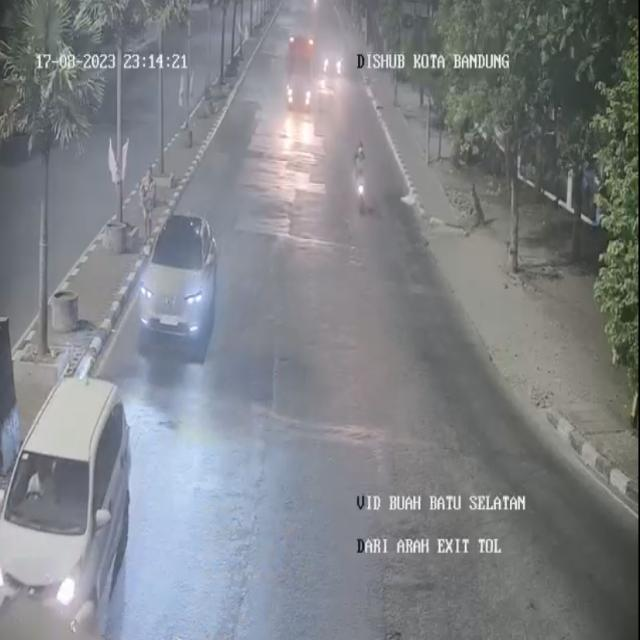cars: (0, 376, 136, 640), (140, 208, 219, 356), (0, 593, 113, 640)
motorcycle: (349, 142, 372, 222)
truck: (279, 34, 318, 120)
